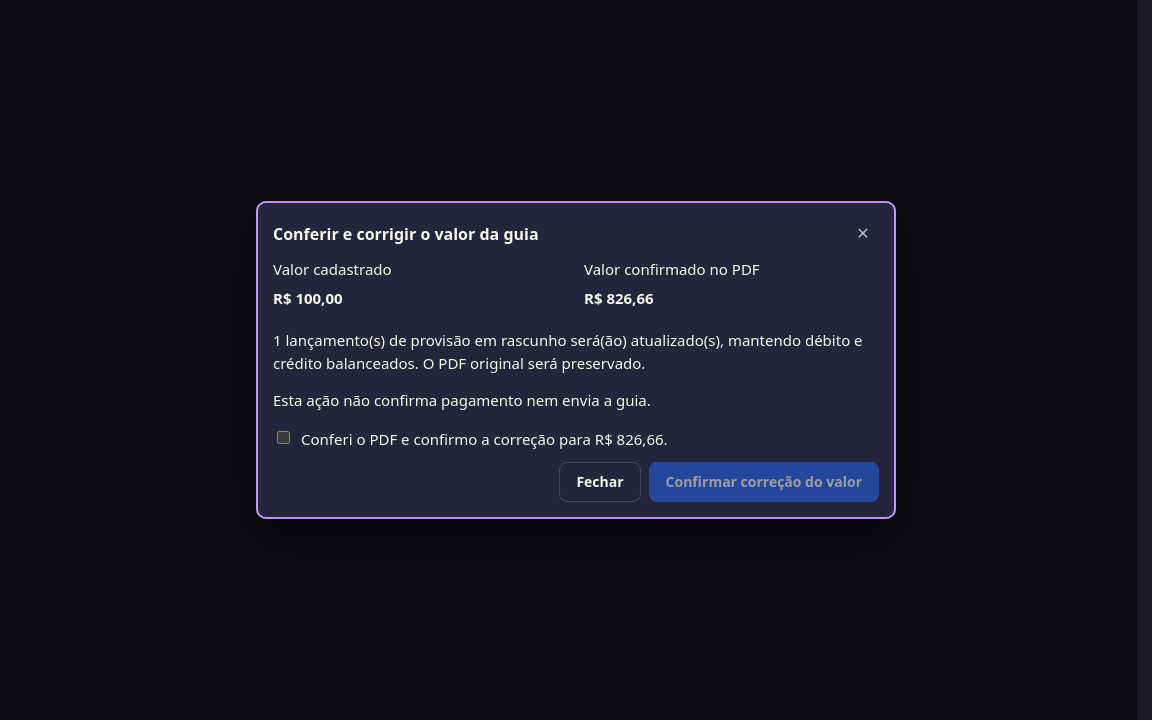
Scenario: corrigir exige prévia e confirmação, envia revisão exata e preserva PDF
Expected: the button "Confirmar correção do valor" is disabled, [649,462,879,502]
Click the checkbox at x=284, y=437, box [277,430,290,444]
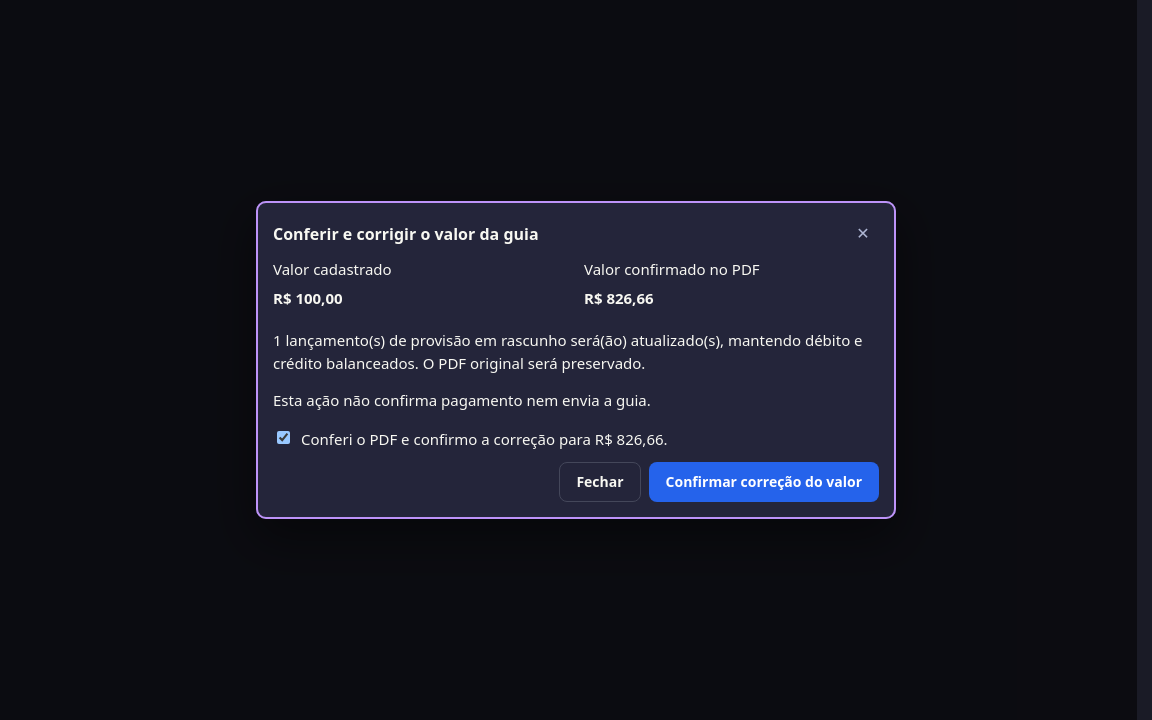
Click the button "Confirmar correção do valor" at x=764, y=482, box [649,462,879,502]
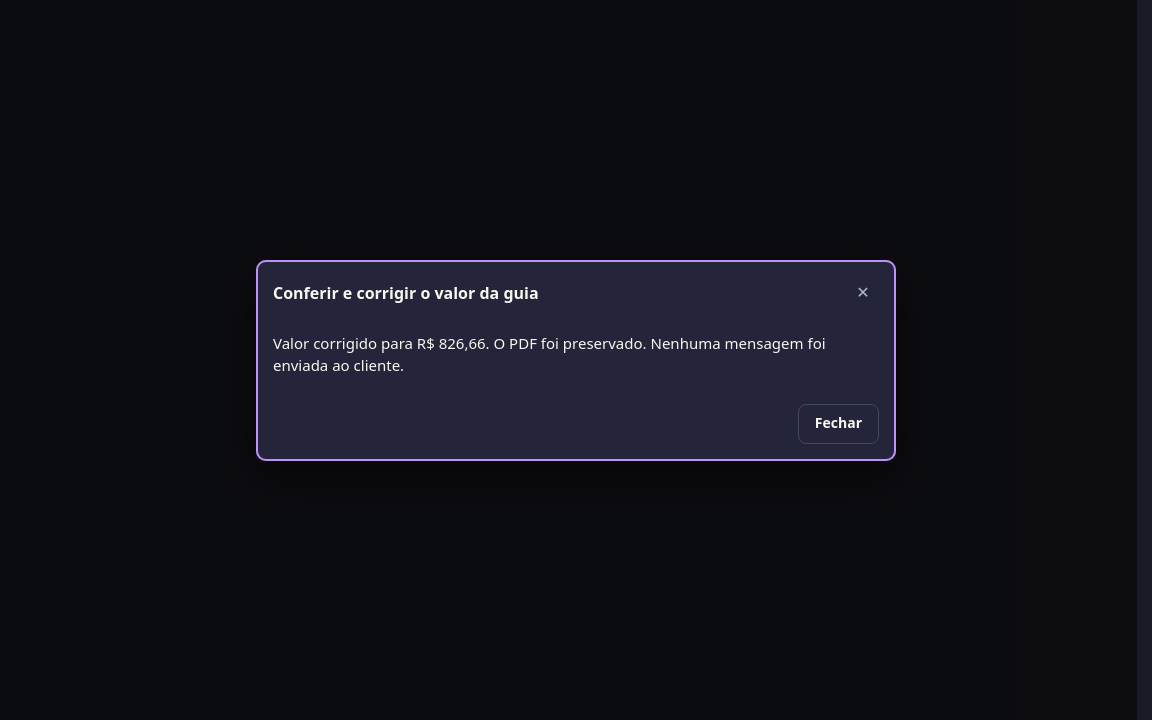
Now the message shows "Nenhuma mensagem foi enviada", box [273,332,826,375]
